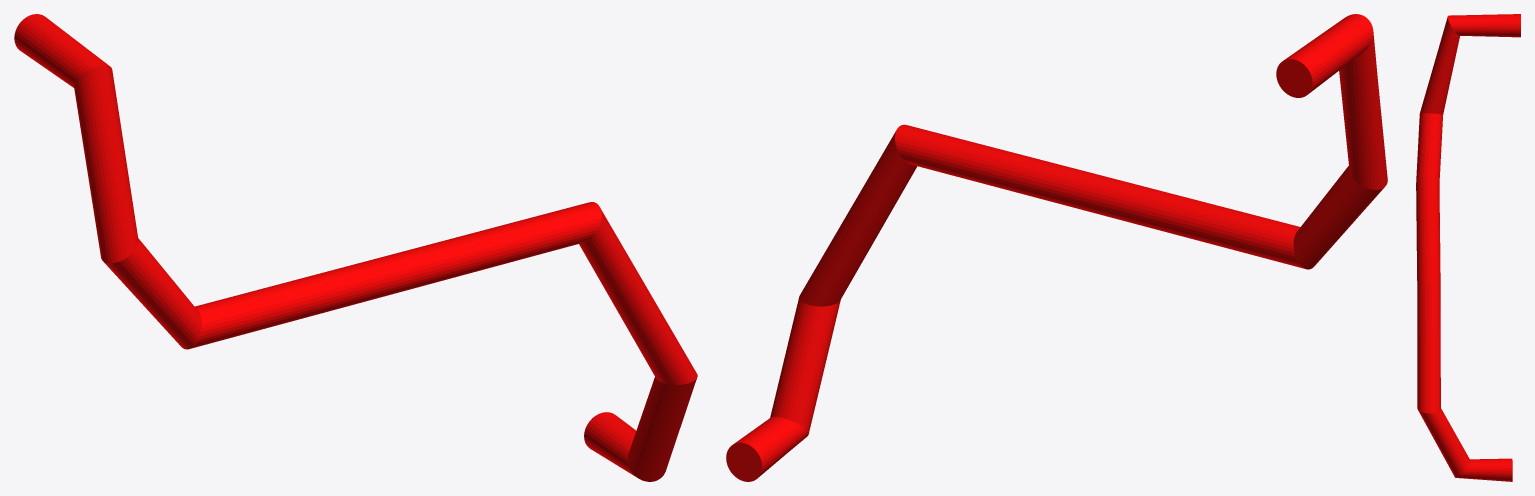
The picture shows the model from 3 angles, left to right: view 1: azimuth 30°, elevation 25°; view 2: azimuth 150°, elevation 25°; view 3: azimuth 270°, elevation 25°; orthographic projection. The views are drawn at different scales.
Visible parts, largest first — view 1: line4; view 2: line4; view 3: line4.
Boxes of the visible parts, bbox=[...] form: line4: bbox=[14, 14, 697, 481]; line4: bbox=[726, 14, 1387, 481]; line4: bbox=[1416, 14, 1520, 481].
Size of the model in its own units: 294 by 266 by 80.53.
